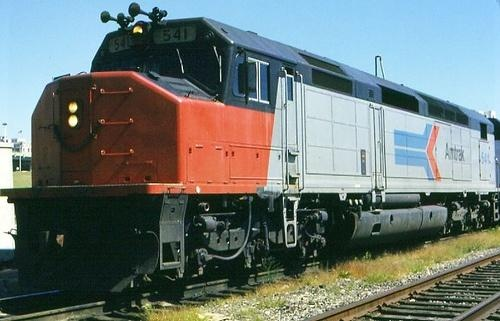train: (2, 5, 495, 291)
